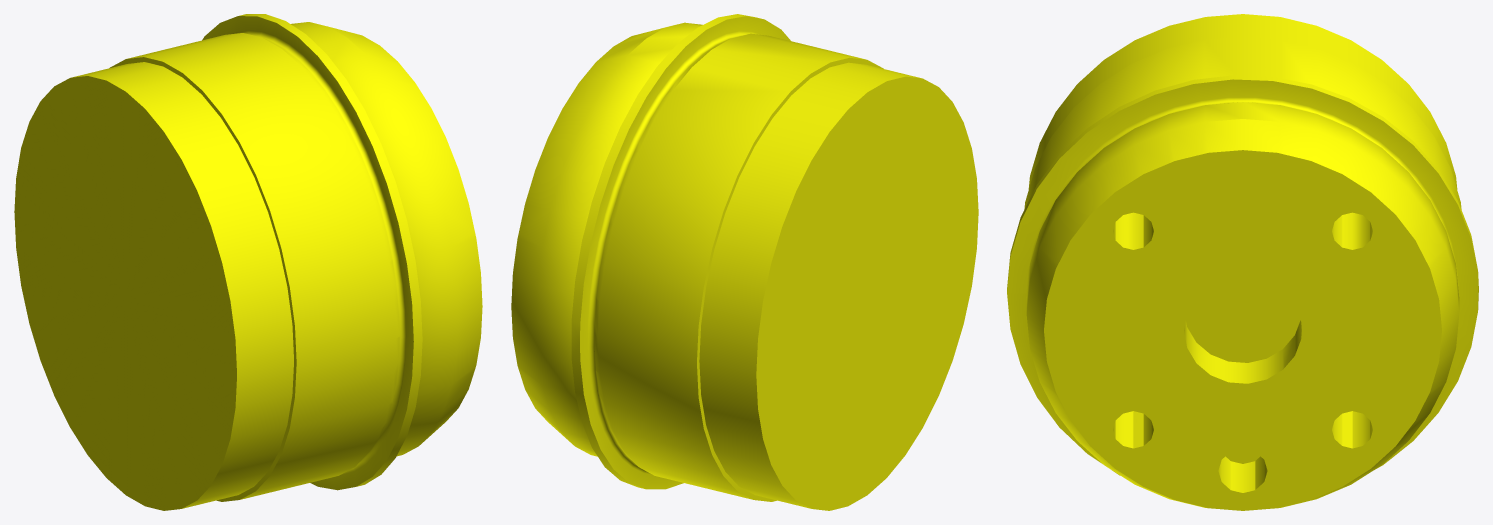
File: MH5L_T_AXIS.dae
The picture shows the model from 3 angles, left to right: view 1: azimuth 30°, elevation 25°; view 2: azimuth 150°, elevation 25°; view 3: azimuth 270°, elevation 25°; orthographic projection. The views are drawn at different scales.
Visible parts, largest first — view 1: node; view 2: node; view 3: node.
Boxes of the visible parts, <box> form: node: <box>14,14,482,510</box>; node: <box>511,14,978,510</box>; node: <box>1007,14,1478,510</box>.
Size of the model in its own units: 0.029 by 0.048 by 0.048.
